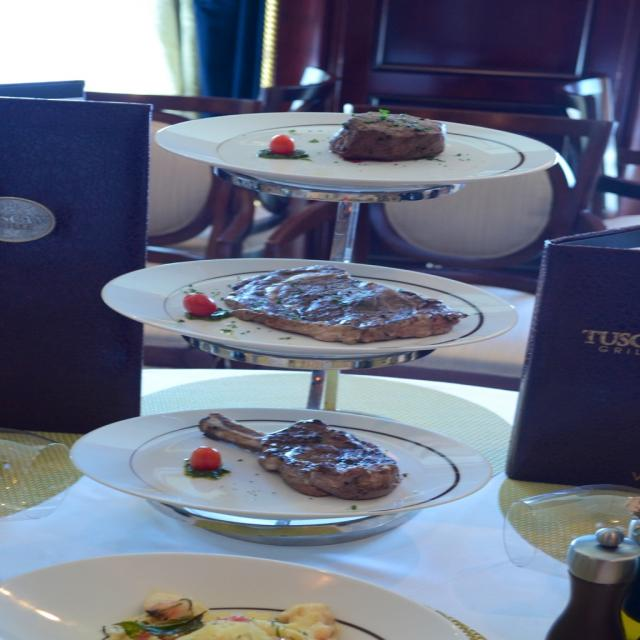non-organic waste: (54, 239, 508, 374), (36, 406, 477, 534), (120, 100, 536, 211)
